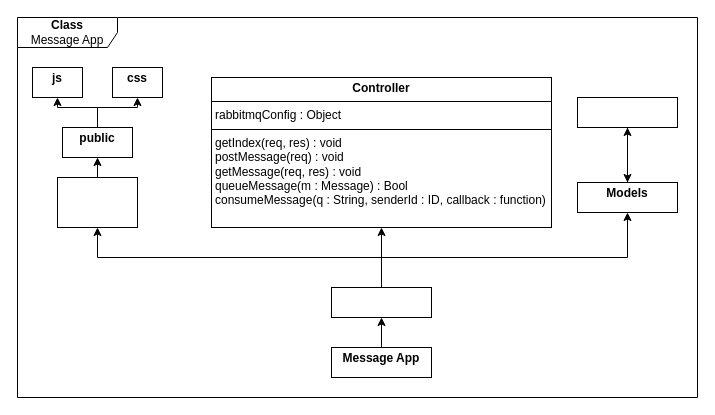
The diagram is 715 pixels wide and 415 high, and some of its shapes have lost their labels. Here are the shapes that lost their labels. From the top down, the centre of each, then its label:
At pixel 627 112: "Message".
At pixel 97 202: "Views index".
At pixel 381 302: "Routes".
